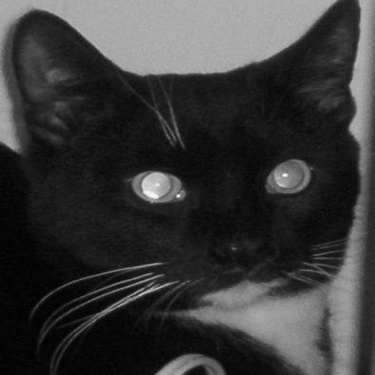cat: (5, 4, 369, 370)
